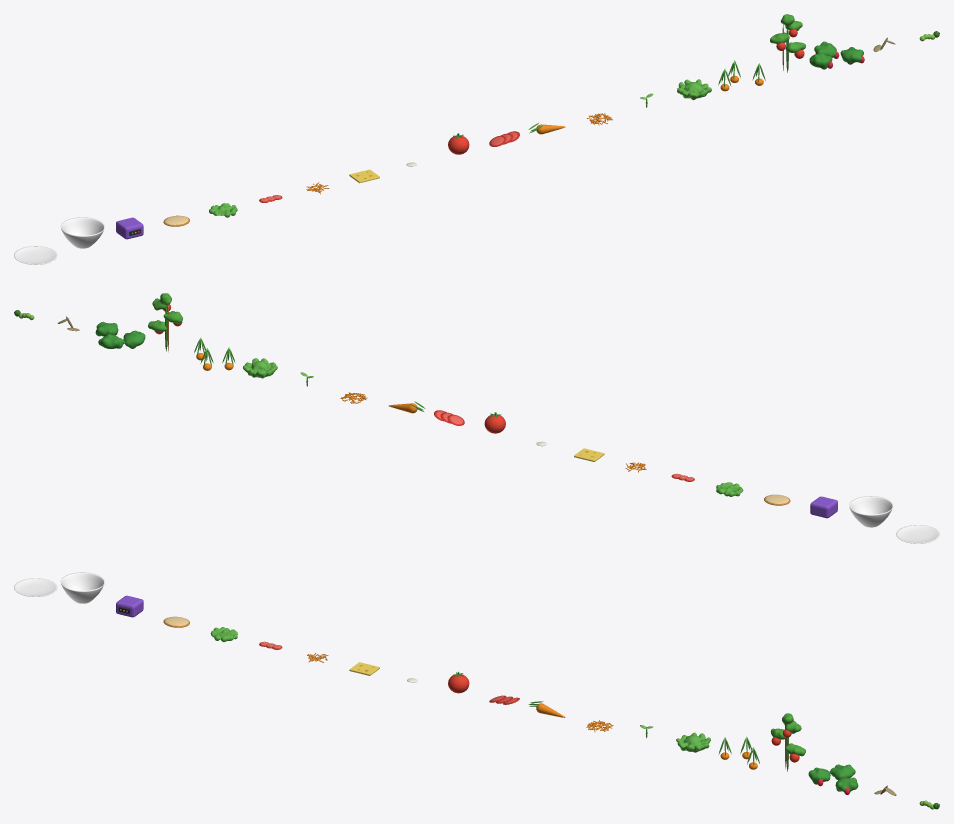
The model's file is comidas.glb.
3 views of the same model, one above another, from view 1: azimuth 30°, elevation 25°; view 2: azimuth 150°, elevation 25°; view 3: azimuth 330°, elevation 25° (orthographic).
Parts seen in each view (by area): view 1: tigela, planta_morango, prato, planta_tomate_folhas; view 2: tigela, planta_morango, prato, planta_tomate_folhas; view 3: tigela, planta_morango, prato, planta_tomate_folhas.
Boxes of the visible parts, x1,y1,x2,y2 form: tigela: (60,217,104,248); planta_morango: (809,41,863,69); prato: (14,246,57,264); planta_tomate_folhas: (770,14,805,52); tigela: (849,496,893,527); planta_morango: (95,321,145,348); prato: (896,525,939,543); planta_tomate_folhas: (148,293,182,331); tigela: (60,572,104,603); planta_morango: (808,764,858,792); prato: (14,578,57,596); planta_tomate_folhas: (770,713,805,756).
Size of the model in its own units: 17.67 by 1.11 by 0.8253.
